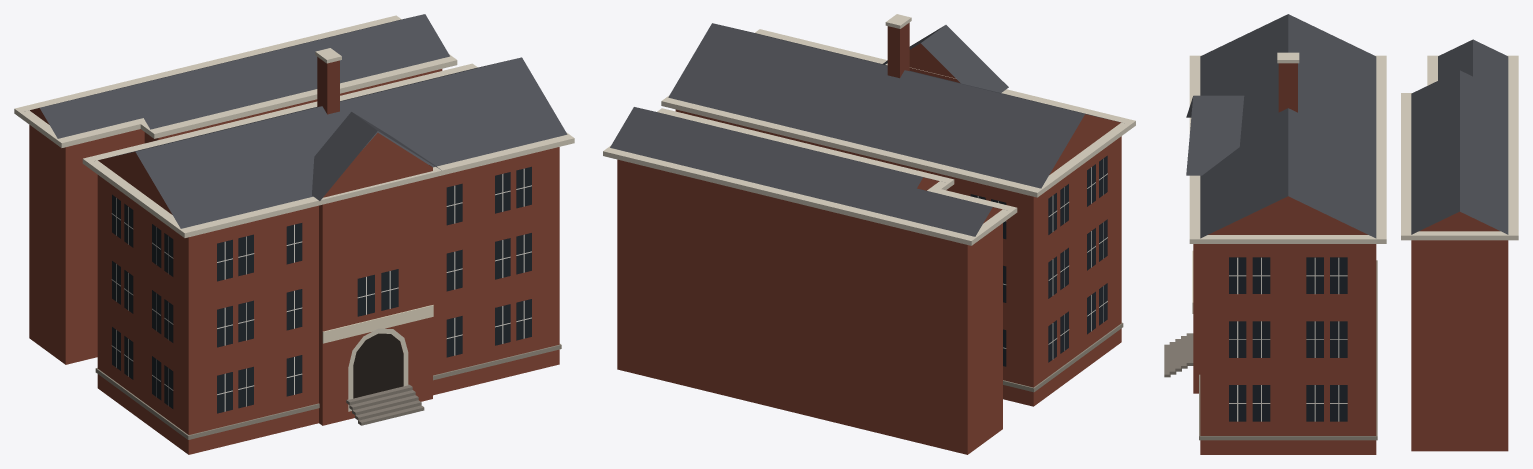
File: capitol-hill-school-1961.glb
3 renders of one model, left to right at view 1: azimuth 30°, elevation 25°; view 2: azimuth 150°, elevation 25°; view 3: azimuth 270°, elevation 25°, orthographic. The views are drawn at different scales.
Visible parts, largest first — view 1: capitol_brick, capitol_slate, capitol_glass, capitol_trim, capitol_dark, capitol_sash, capitol_stone, capitol_base, capitol_cream, capitol_brick2; view 2: capitol_brick, capitol_slate, capitol_trim, capitol_glass, capitol_brick2, capitol_sash, capitol_stone; view 3: capitol_brick, capitol_slate, capitol_trim, capitol_glass, capitol_stone, capitol_sash, capitol_base, capitol_brick2.
Boxes of the visible parts, x1,y1,x2,y2 form: capitol_brick: [29, 69, 559, 454]; capitol_slate: [34, 14, 567, 228]; capitol_glass: [112, 166, 531, 413]; capitol_trim: [14, 15, 574, 411]; capitol_dark: [353, 333, 403, 398]; capitol_sash: [111, 168, 531, 411]; capitol_stone: [95, 344, 561, 439]; capitol_base: [346, 384, 424, 425]; capitol_cream: [322, 305, 433, 343]; capitol_brick2: [317, 57, 339, 114]; capitol_brick: [617, 43, 1121, 454]; capitol_slate: [610, 23, 1118, 236]; capitol_trim: [603, 14, 1135, 245]; capitol_glass: [970, 155, 1107, 366]; capitol_brick2: [887, 22, 909, 78]; capitol_sash: [977, 159, 1107, 359]; capitol_stone: [1003, 322, 1123, 392]; capitol_brick: [1193, 196, 1508, 454]; capitol_slate: [1186, 14, 1508, 238]; capitol_trim: [1189, 52, 1518, 243]; capitol_glass: [1229, 257, 1347, 421]; capitol_stone: [1199, 260, 1377, 440]; capitol_sash: [1229, 257, 1347, 421]; capitol_base: [1164, 333, 1193, 377]; capitol_brick2: [1278, 63, 1297, 112].
Size of the model in its own units: 24.7 by 19.52 by 20.15.
